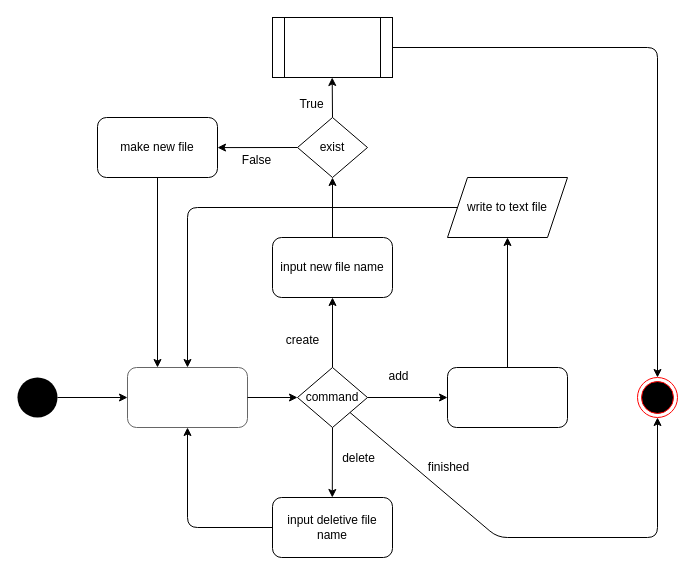
The diagram is 695 pixels wide and 575 high, and some of its shapes have lost their labels. The shapes that lost their labels are listed below. From the top down, each one's centre as x and y in pixels, then its label:
At (x=332, y=47): "panic!".
At (x=187, y=397): "input execution command".
At (x=507, y=397): "input additional contents".
